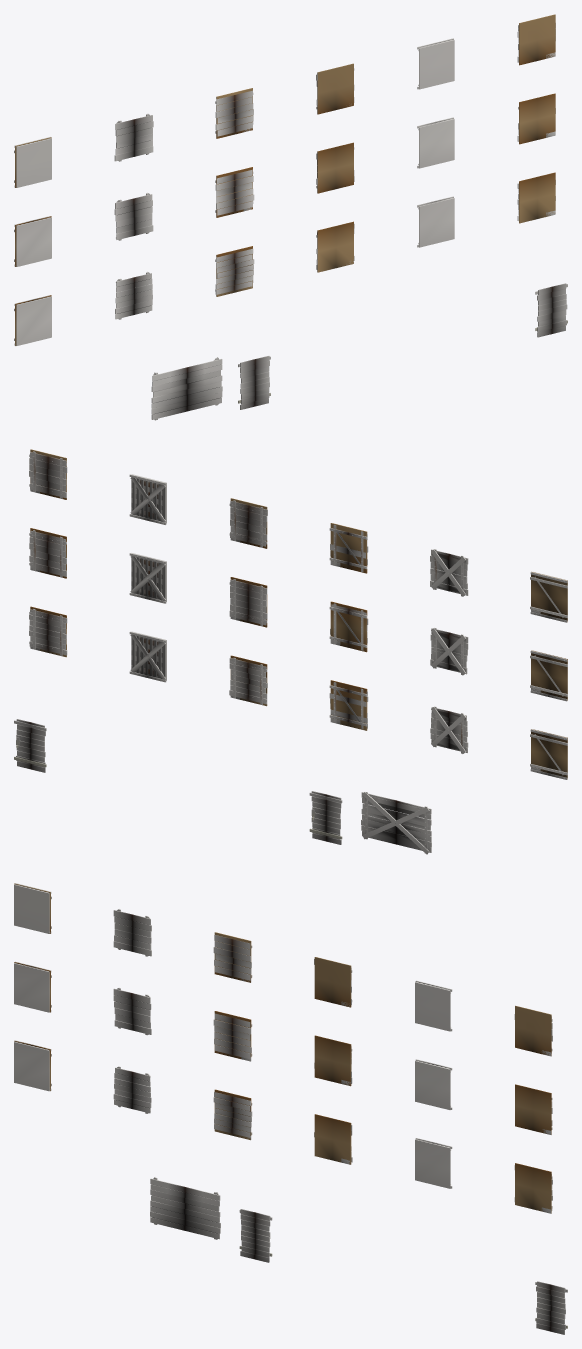
Rendered from boards_habitation_workshop.glb.
3 views of the same model, one above another, from view 1: azimuth 30°, elevation 25°; view 2: azimuth 150°, elevation 25°; view 3: azimuth 330°, elevation 25° (orthographic).
Parts seen in each view (by area): view 1: boards_habitation_workshop; view 2: boards_habitation_workshop; view 3: boards_habitation_workshop.
Part boxes in pixels (x1,y1,x2,y2): boards_habitation_workshop: (14, 14, 567, 420); boards_habitation_workshop: (14, 449, 567, 854); boards_habitation_workshop: (14, 883, 567, 1334).
Size of the model in its own units: 22.03 by 12.14 by 0.285.
